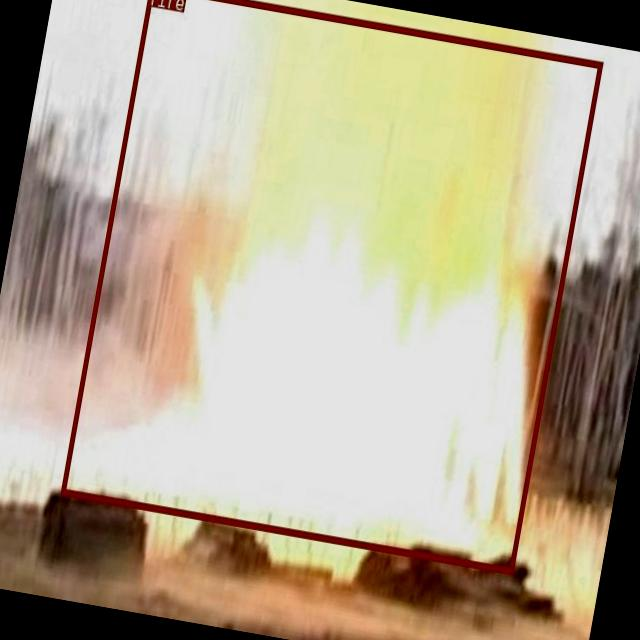fire: (59, 0, 602, 572)
